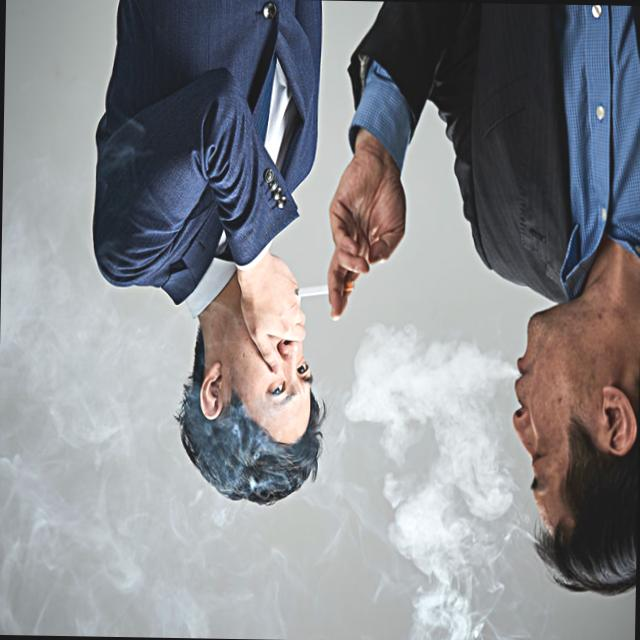cigarette: (292, 276, 354, 300)
